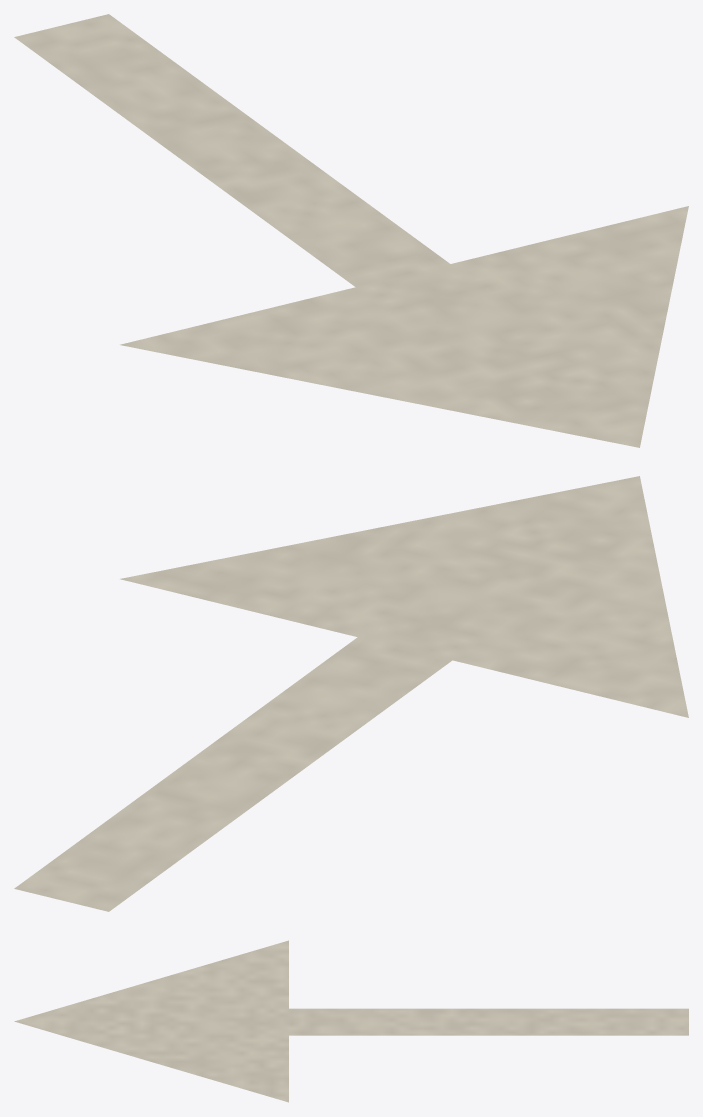
The model's file is q01-arrow.glb.
The picture shows the model from 3 angles, top to bottom: view 1: azimuth 30°, elevation 25°; view 2: azimuth 150°, elevation 25°; view 3: azimuth 270°, elevation 25°; orthographic projection. The views are drawn at different scales.
Size of the model in its own units: 0.6 by 0.001 by 1.06.
1 material, 1 textured.
